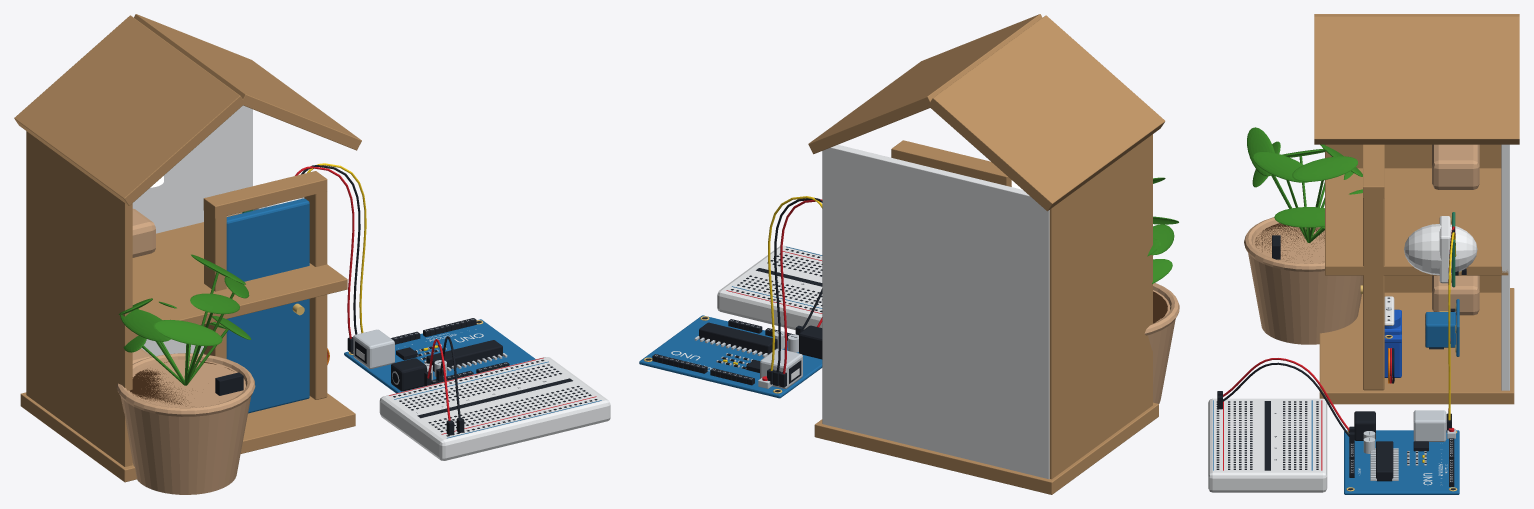
File: mini-smart-house.glb
3 views of the same model, side by side, from view 1: azimuth 30°, elevation 25°; view 2: azimuth 150°, elevation 25°; view 3: azimuth 270°, elevation 25° (orthographic). The views are drawn at different scales.
Parts seen in each view (by area): view 1: Project structure • wood, Project structure • ceramic, breadboard.025 • white, Project structure • blue, Project structure • white, Project structure • leaf, microcontroller.025 • black, microcontroller.025 • blue, breadboard.025 • black, microcontroller.025 • silver, Jumper connections • black, Project structure • soil (+1 smaller); view 2: Project structure • wood, Project structure • white, breadboard.025 • white, microcontroller.025 • blue, microcontroller.025 • black, Project structure • ceramic, microcontroller.025 • silver, Project structure • leaf, breadboard.025 • black, Jumper connections • black, Jumper connections • yellow, Jumper connections • red; view 3: Project structure • wood, Project structure • ceramic, breadboard.025 • white, Project structure • leaf, microcontroller.025 • blue, motion-sensor.003 • white, breadboard.025 • black, Project structure • white, microcontroller.025 • silver, microcontroller.025 • black, temperature-sensor.004 • blue, servo-actuator.004 • servoBlue (+4 smaller).
Boxes of the visible parts, left/top/right/bottom form: Project structure • wood: left=14, top=14, right=361, bottom=482; Project structure • ceramic: left=116, top=208, right=255, bottom=494; breadboard.025 • white: left=379, top=357, right=610, bottom=460; Project structure • blue: left=226, top=198, right=309, bottom=413; Project structure • white: left=132, top=105, right=252, bottom=356; Project structure • leaf: left=119, top=254, right=251, bottom=385; microcontroller.025 • black: left=350, top=318, right=509, bottom=391; microcontroller.025 • blue: left=344, top=319, right=535, bottom=393; breadboard.025 • black: left=393, top=360, right=597, bottom=436; microcontroller.025 • silver: left=353, top=319, right=507, bottom=384; Jumper connections • black: left=301, top=165, right=464, bottom=435; Project structure • soil: left=129, top=360, right=233, bottom=406; Project structure • wood: left=808, top=14, right=1165, bottom=494; Project structure • white: left=822, top=145, right=1049, bottom=479; breadboard.025 • white: left=717, top=245, right=822, bottom=329; microcontroller.025 • blue: left=639, top=315, right=822, bottom=398; microcontroller.025 • black: left=645, top=317, right=822, bottom=392; Project structure • ceramic: left=1144, top=283, right=1179, bottom=403; microcontroller.025 • silver: left=655, top=320, right=802, bottom=388; Project structure • leaf: left=1147, top=177, right=1178, bottom=283; breadboard.025 • black: left=731, top=249, right=822, bottom=312; Jumper connections • black: left=767, top=197, right=822, bottom=387; Jumper connections • yellow: left=768, top=196, right=822, bottom=370; Jumper connections • red: left=780, top=199, right=822, bottom=373; Project structure • wood: left=1314, top=14, right=1519, bottom=404; Project structure • ceramic: left=1244, top=144, right=1479, bottom=344; breadboard.025 • white: left=1208, top=398, right=1327, bottom=492; Project structure • leaf: left=1247, top=127, right=1362, bottom=242; microcontroller.025 • blue: left=1344, top=430, right=1459, bottom=494; motion-sensor.003 • white: left=1404, top=216, right=1477, bottom=283; breadboard.025 • black: left=1216, top=401, right=1318, bottom=470; Project structure • white: left=1501, top=144, right=1509, bottom=390; microcontroller.025 • silver: left=1351, top=410, right=1455, bottom=481; microcontroller.025 • black: left=1348, top=411, right=1455, bottom=490; temperature-sensor.004 • blue: left=1425, top=299, right=1459, bottom=356; servo-actuator.004 • servoBlue: left=1384, top=309, right=1401, bottom=377.
Size of the model in its own units: 217 by 172 by 144.
